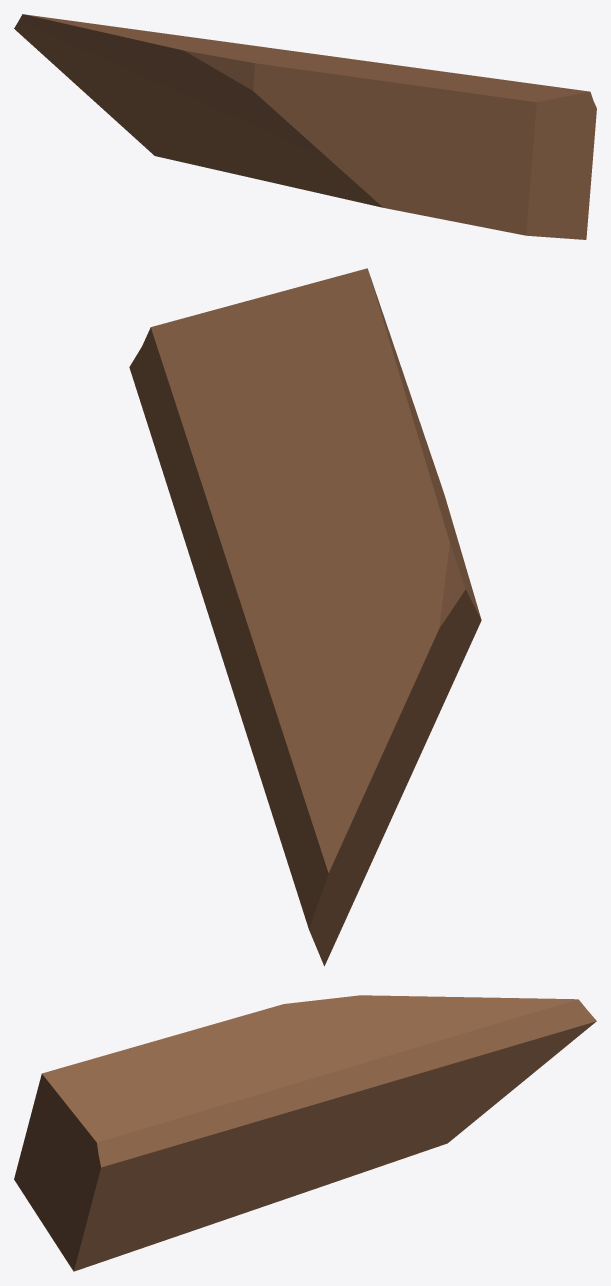
File: WoodCellCube_003_cell_059.fbx
3 views of the same model, one above another, from view 1: azimuth 30°, elevation 25°; view 2: azimuth 150°, elevation 25°; view 3: azimuth 270°, elevation 25° (orthographic). The views are drawn at different scales.
Parts seen in each view (by area): view 1: WoodCellCube_003_cell_059; view 2: WoodCellCube_003_cell_059; view 3: WoodCellCube_003_cell_059.
Boxes of the visible parts, <box> form: WoodCellCube_003_cell_059: <box>14,14,596,239</box>; WoodCellCube_003_cell_059: <box>129,268,481,966</box>; WoodCellCube_003_cell_059: <box>14,995,596,1271</box>.
Bounding box in the file's own units: 1.03 × 0.324 × 0.6919.
1 material, 1 textured.
